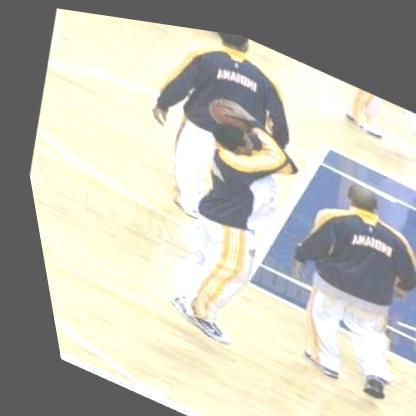basketball: (196, 78, 258, 135)
